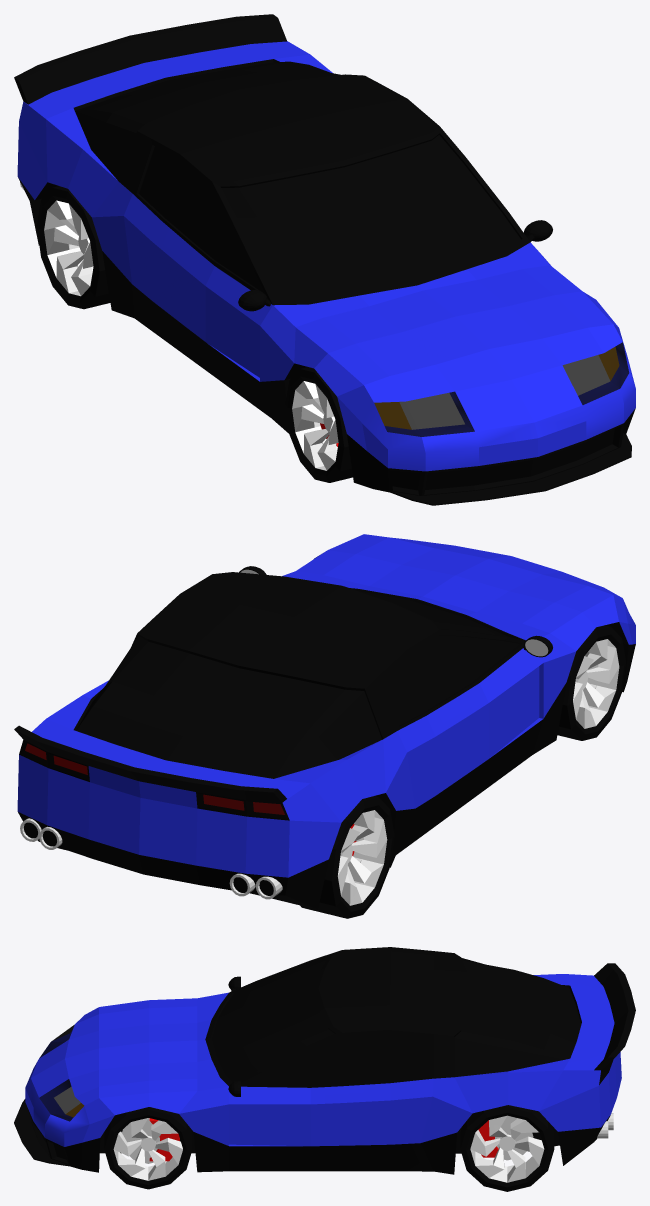
The model's file is car_blue.glb.
3 views of the same model, one above another, from view 1: azimuth 30°, elevation 25°; view 2: azimuth 150°, elevation 25°; view 3: azimuth 270°, elevation 25° (orthographic). The views are drawn at different scales.
Visible parts, largest first — view 1: Muscle car 2.Body, 5.Wheel.Bk.R, 5.Wheel.Ft.R; view 2: Muscle car 2.Body, 5.Wheel.Bk.R, 5.Wheel.Ft.R; view 3: Muscle car 2.Body, 5.Wheel.Bk.L, 5.Wheel.Ft.L.
Boxes of the visible parts, left/top/right/bottom form: Muscle car 2.Body: left=14, top=14, right=635, bottom=505; 5.Wheel.Bk.R: left=36, top=186, right=110, bottom=309; 5.Wheel.Ft.R: left=285, top=367, right=352, bottom=482; Muscle car 2.Body: left=14, top=534, right=635, bottom=909; 5.Wheel.Bk.R: left=300, top=796, right=394, bottom=918; 5.Wheel.Ft.R: left=557, top=625, right=625, bottom=740; Muscle car 2.Body: left=14, top=947, right=635, bottom=1174; 5.Wheel.Bk.L: left=460, top=1105, right=554, bottom=1191; 5.Wheel.Ft.L: left=104, top=1107, right=192, bottom=1189.
Bounding box in the file's own units: 135 × 85.03 × 313.
